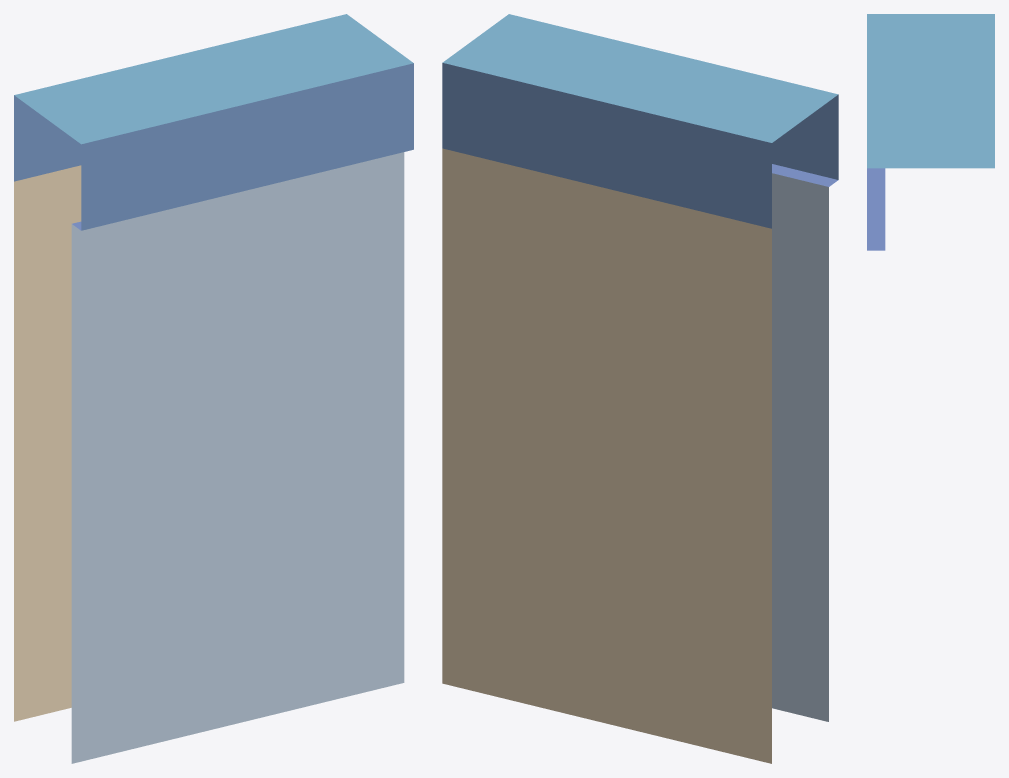
The model's file is wall_outside_S.fbx.
3 renders of one model, left to right at view 1: azimuth 30°, elevation 25°; view 2: azimuth 150°, elevation 25°; view 3: azimuth 270°, elevation 25°, orthographic. The views are drawn at different scales.
Visible parts, largest first — view 1: wall_s; view 2: wall_s; view 3: wall_s.
Boxes of the visible parts, left/top/right/bottom form: wall_s: left=14, top=14, right=413, bottom=763; wall_s: left=442, top=14, right=838, bottom=763; wall_s: left=867, top=14, right=994, bottom=250.
Size of the model in its own units: 100 by 180 by 35.
